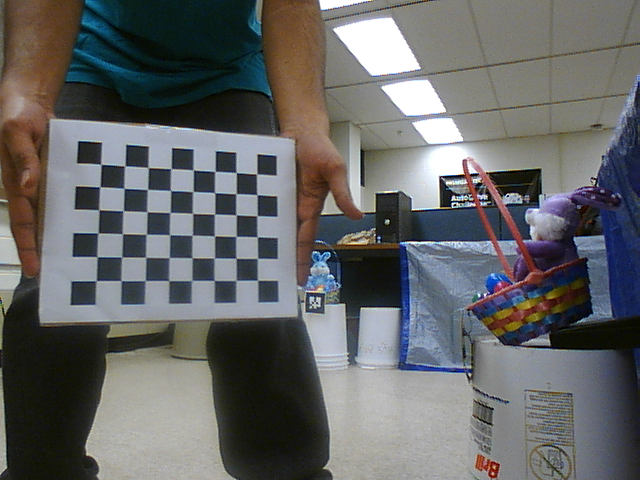bunny: (449, 151, 597, 341)
